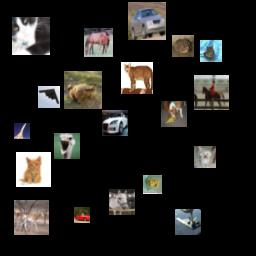airplane: (175, 209, 201, 235), (38, 86, 60, 108), (14, 123, 30, 139)
automobile: (128, 2, 166, 40), (102, 110, 128, 136), (74, 207, 90, 223)
bird: (54, 133, 80, 159)
cat: (12, 17, 50, 55), (16, 152, 51, 187), (121, 62, 153, 94), (200, 40, 222, 62)
deer: (14, 200, 49, 235)
dog: (161, 101, 187, 127), (194, 146, 216, 168)
frog: (64, 71, 102, 109), (172, 35, 194, 57), (143, 175, 162, 194)
